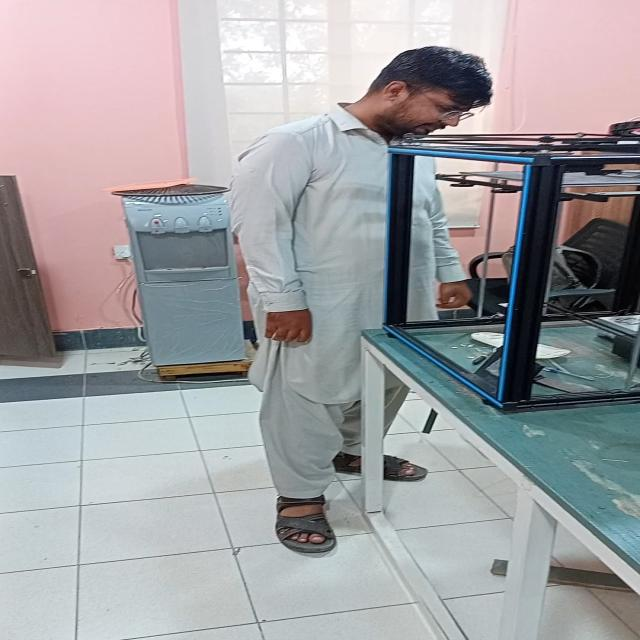dress: (227, 101, 456, 495)
